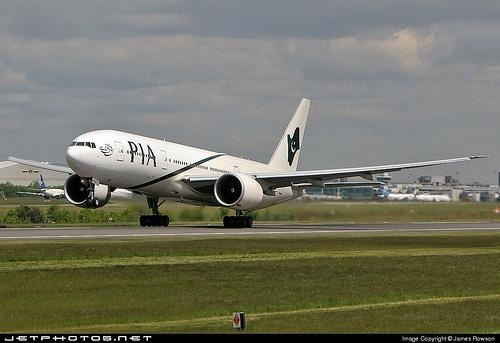aeroplane: (8, 96, 491, 232)
